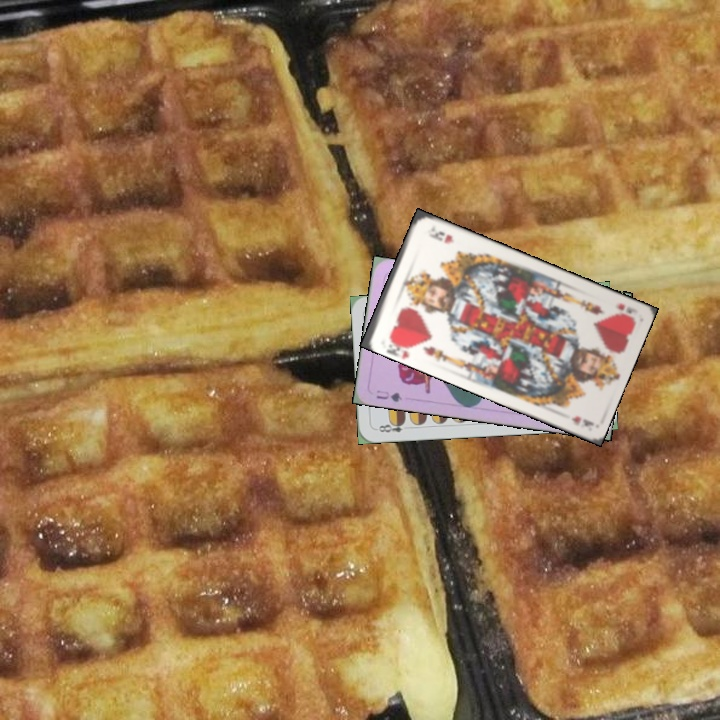E8: (372, 417, 408, 435)
GU: (372, 386, 405, 405)
HK: (384, 332, 419, 357), (611, 299, 639, 316)
